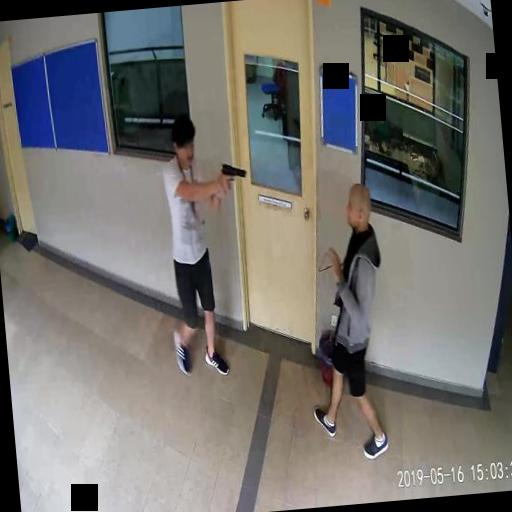Handgun: (220, 158, 246, 192)
